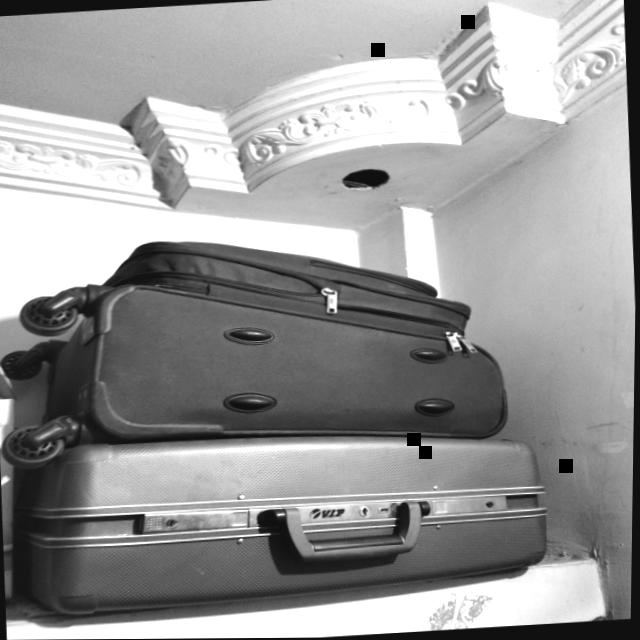luggage: (29, 218, 519, 468), (11, 415, 559, 624)
